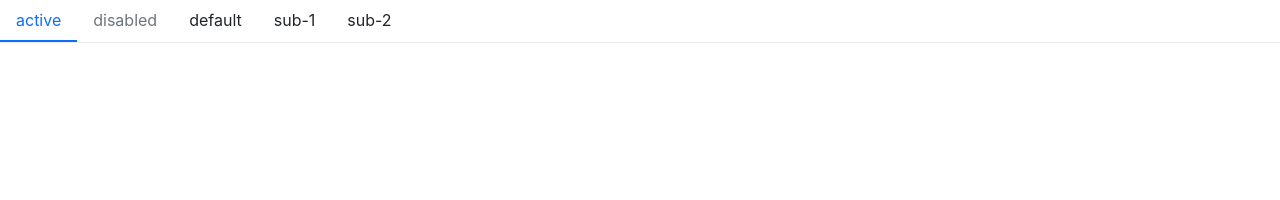
Test: 测试 Menu 和 MenuItem 组件 › should show dropdown items when hover on SubMenu
Hover over the text "sub-1" at (295, 20), box [274,8,315,32]
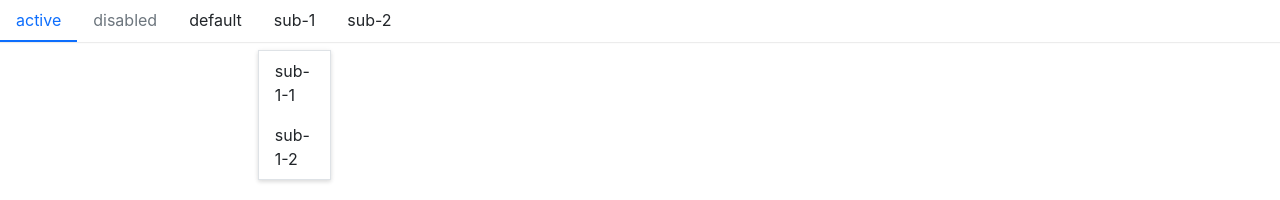
Expected: the list item "sub-1-1" is shown, [275,61,310,105]
